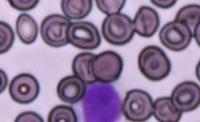L: (74, 80, 124, 121)
